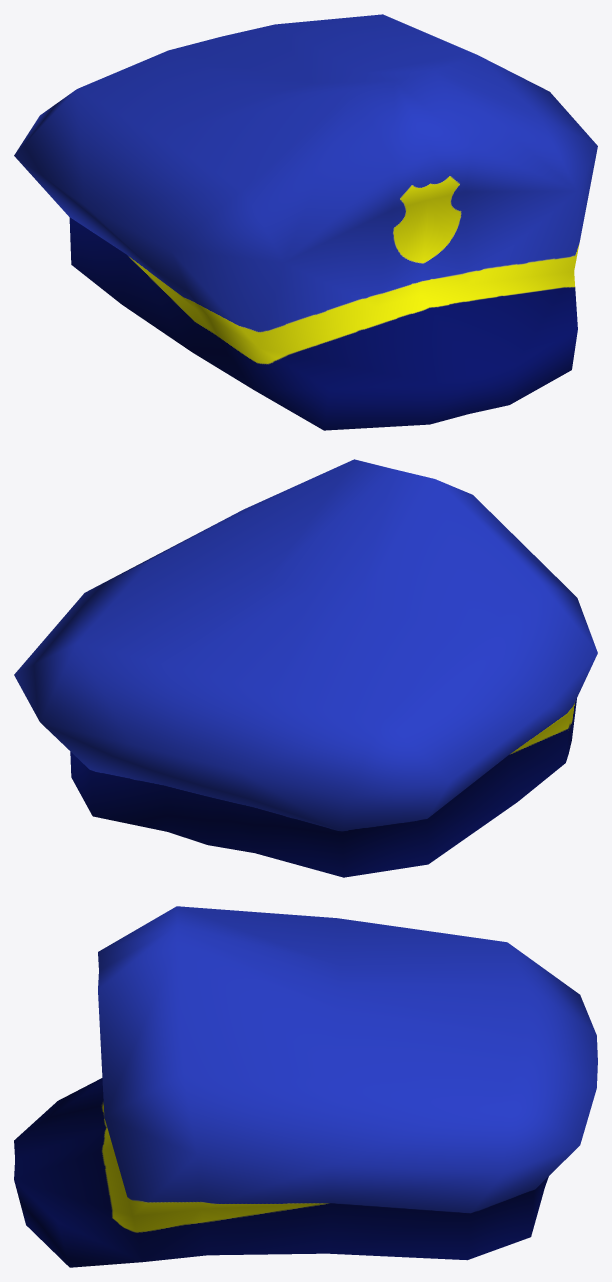
Rendered from cop.fbx.
The picture shows the model from 3 angles, top to bottom: view 1: azimuth 30°, elevation 25°; view 2: azimuth 150°, elevation 25°; view 3: azimuth 270°, elevation 25°; orthographic projection.
Parts seen in each view (by area): view 1: cop_hat_mesh; view 2: cop_hat_mesh; view 3: cop_hat_mesh.
Boxes of the visible parts, <box> form: cop_hat_mesh: <box>14,14,597,430</box>; cop_hat_mesh: <box>14,459,597,877</box>; cop_hat_mesh: <box>14,906,597,1267</box>.
Bounding box in the file's own units: 2.13 × 1.22 × 2.3.
